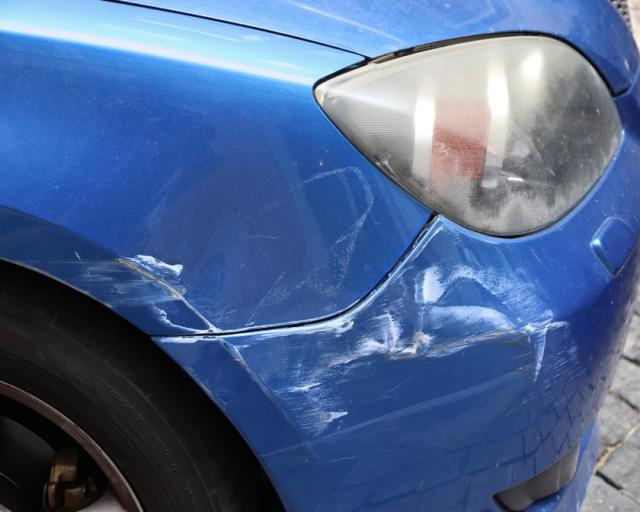scratch: (230, 265, 591, 454), (29, 163, 376, 336)
